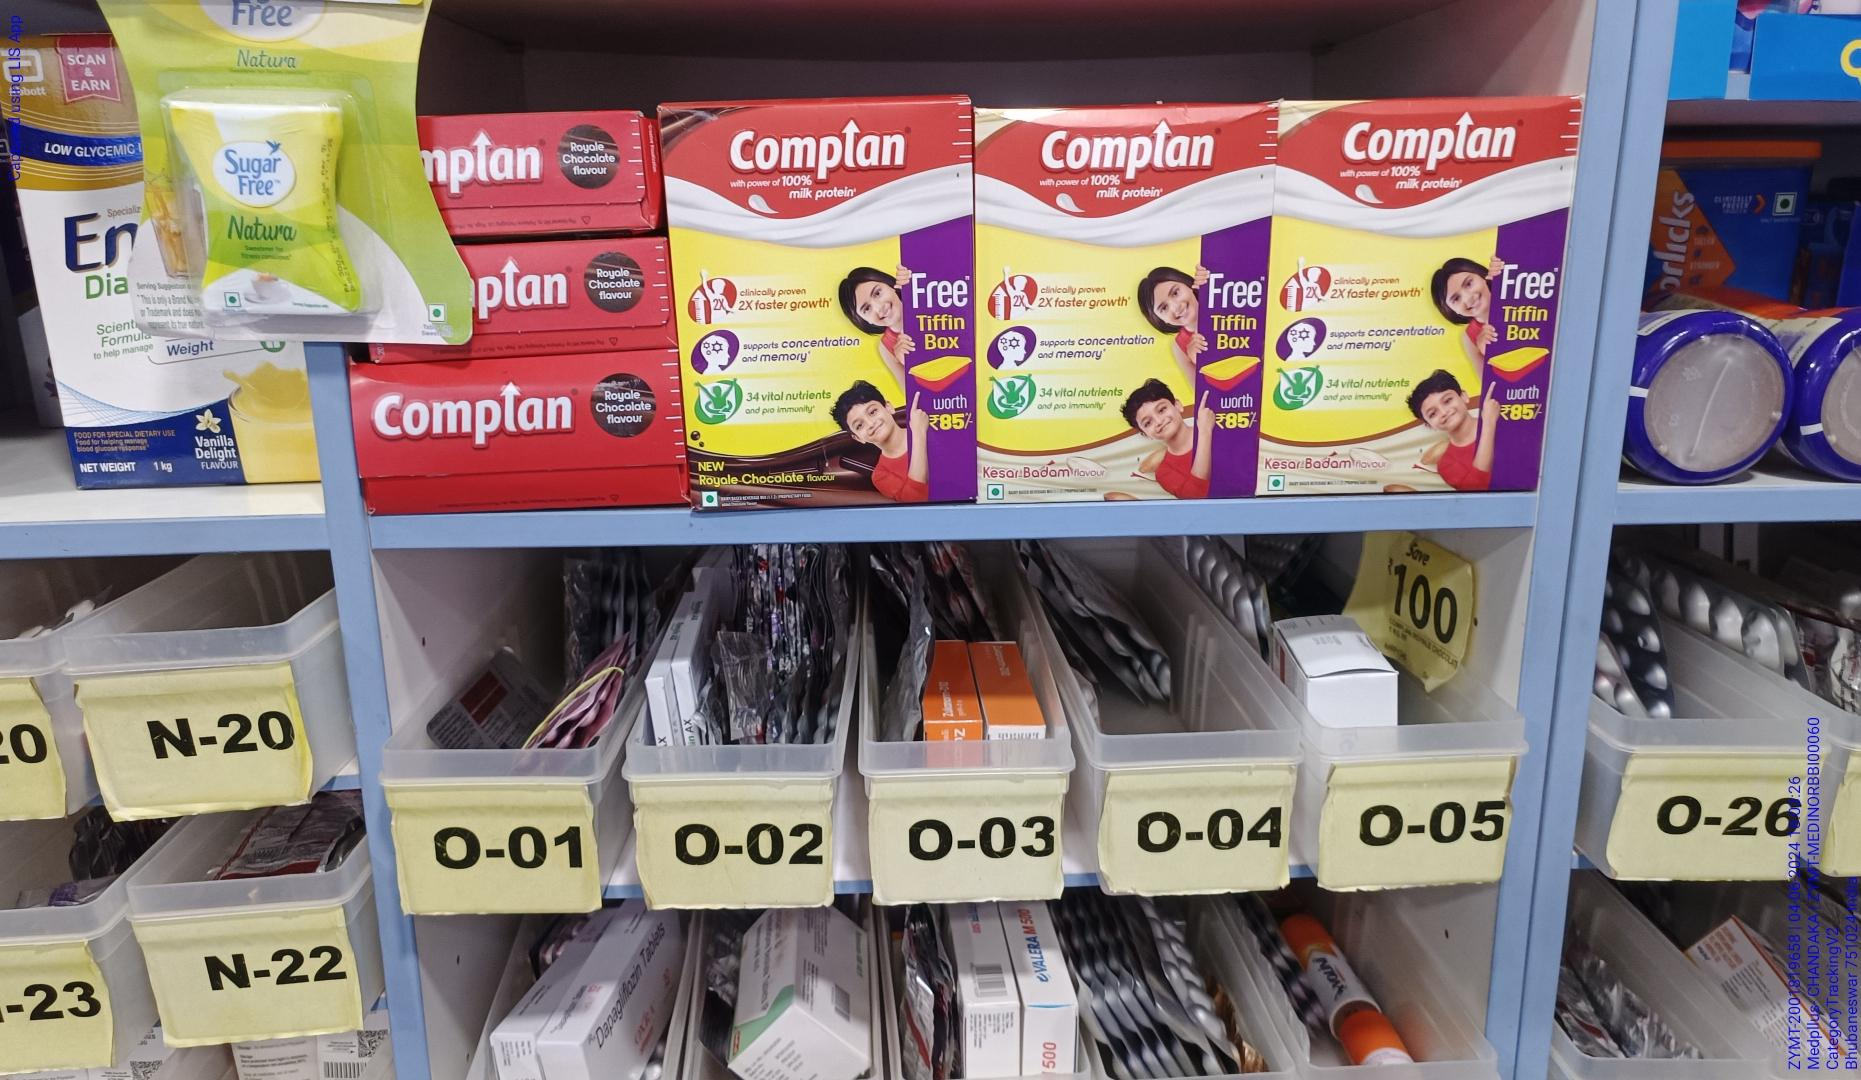COMPLAN_CHOCOLATE_500_GMS_PACK: (693, 109, 972, 516)
COMPLAN_KESAR_BADAM_500_GMS_PACK: (1271, 104, 1568, 494), (982, 111, 1260, 498)
